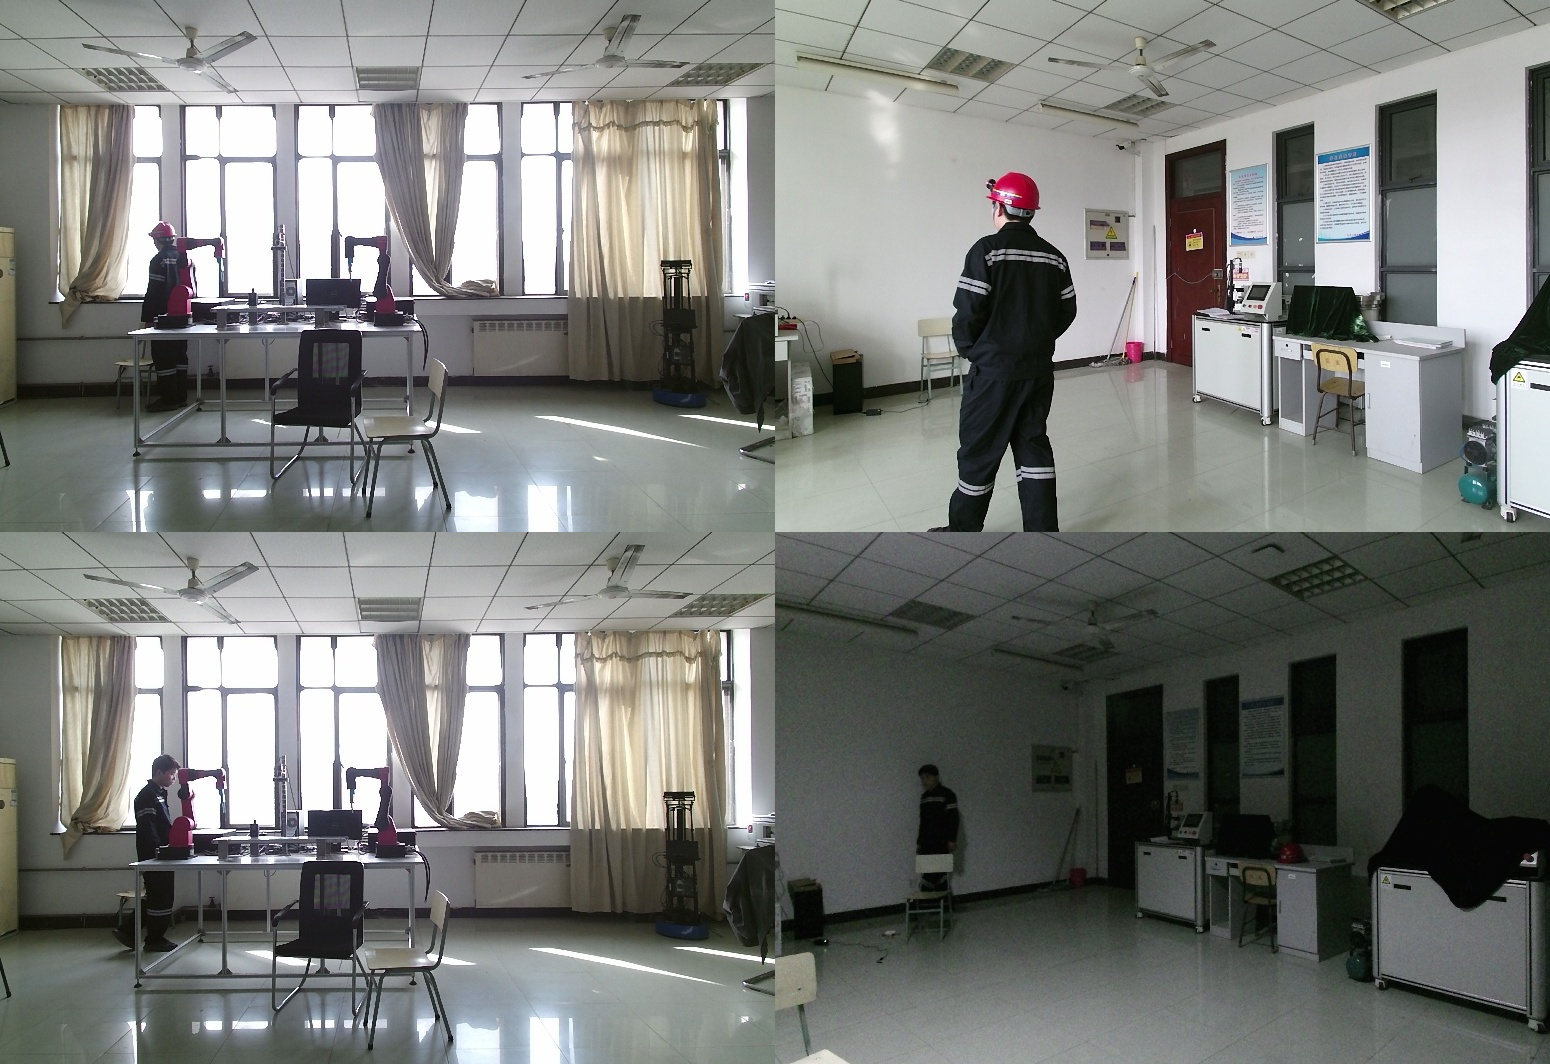person: (927, 172, 1094, 532), (118, 753, 193, 959), (140, 222, 190, 423), (916, 764, 965, 858)
